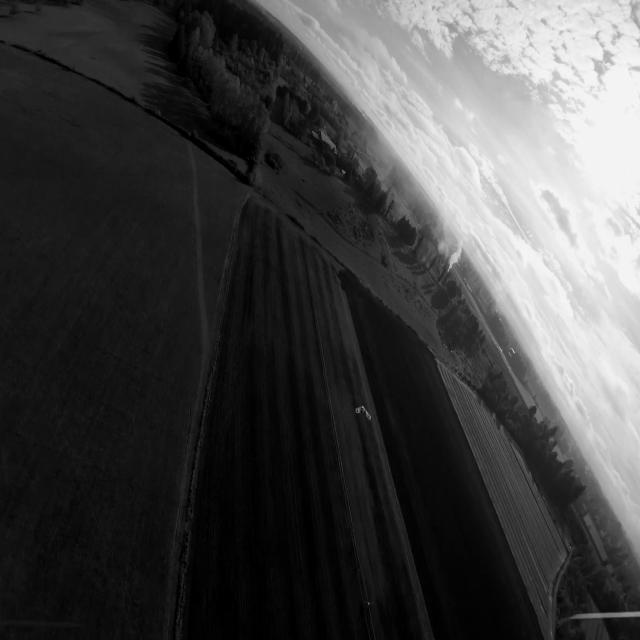iha: (352, 403, 373, 422)
